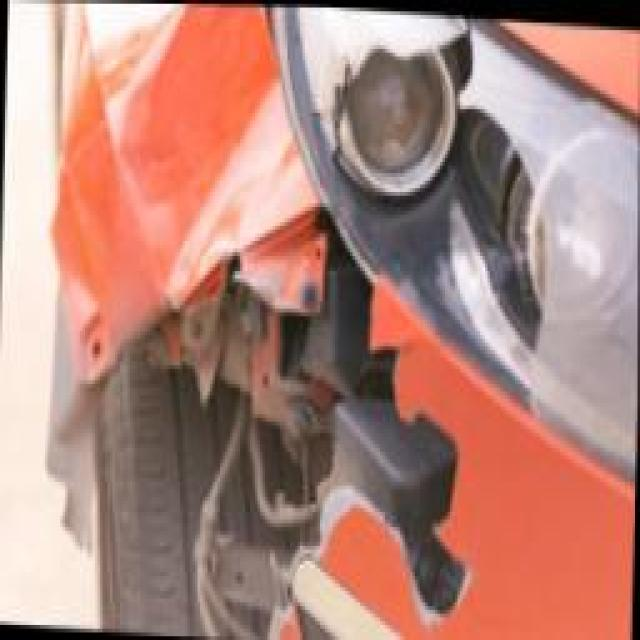Bumper: (61, 200, 520, 640)
